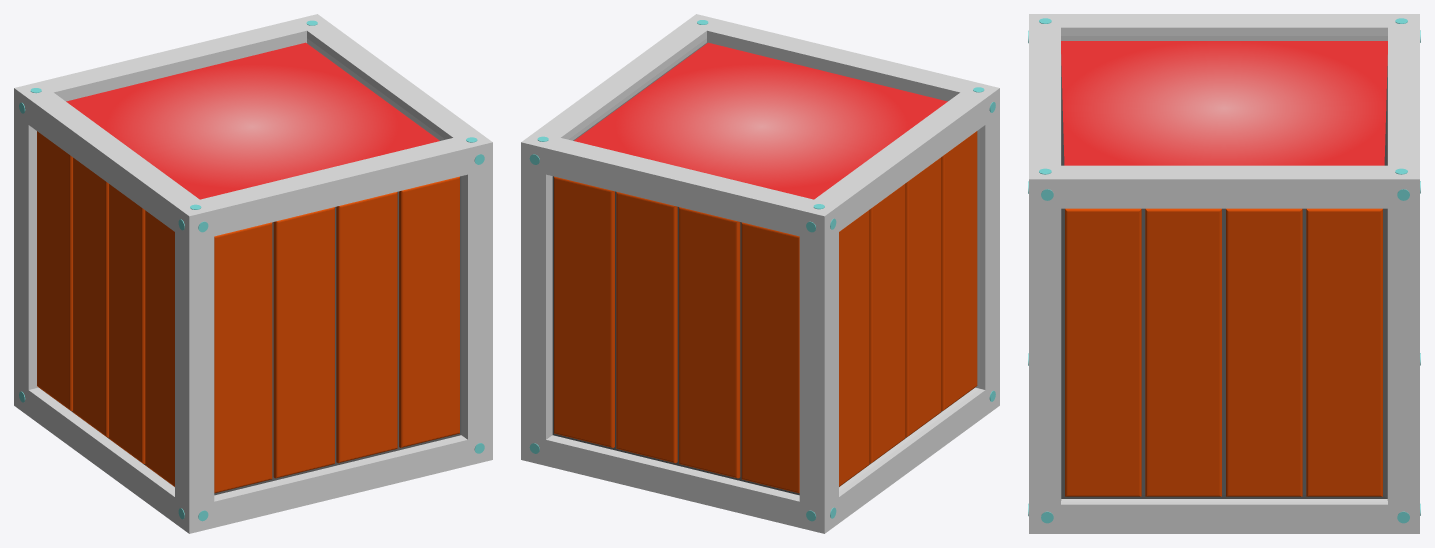
Rendered from GoreBezDaske22.fbx.
3 views of the same model, side by side, from view 1: azimuth 30°, elevation 25°; view 2: azimuth 150°, elevation 25°; view 3: azimuth 270°, elevation 25° (orthographic). The views are drawn at different scales.
Visible parts, largest first — view 1: Cube.203; view 2: Cube.203; view 3: Cube.203.
Boxes of the visible parts, bbox=[...] form: Cube.203: bbox=[14, 14, 492, 533]; Cube.203: bbox=[521, 14, 999, 533]; Cube.203: bbox=[1028, 14, 1420, 533].
Bounding box in the file's own units: 201 × 200 × 201.
